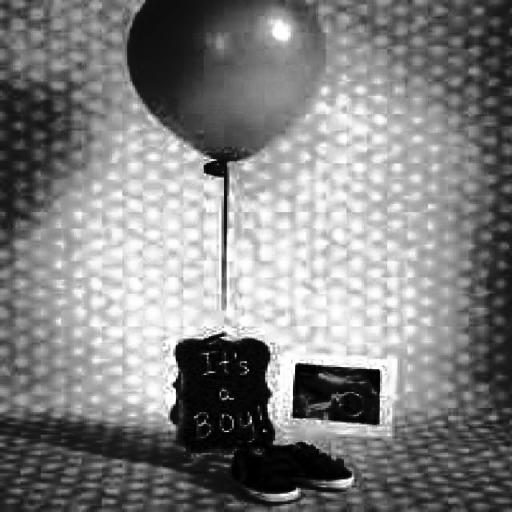balloon: (125, 0, 327, 163)
